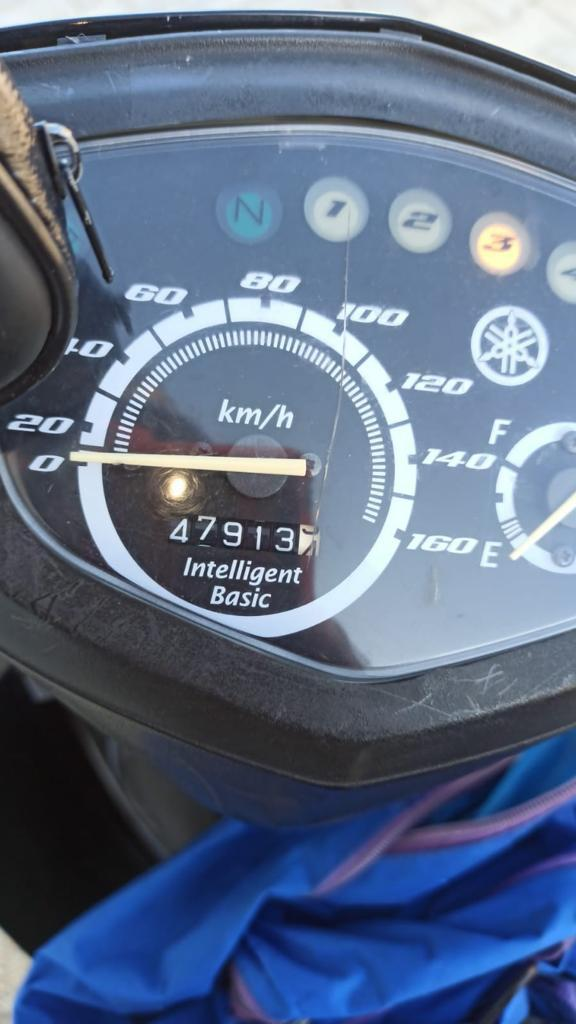1: (254, 525, 262, 550)
3: (273, 526, 294, 552)
4: (167, 517, 189, 544), (300, 539, 316, 562)
7: (196, 514, 216, 540)
9: (221, 521, 242, 547)
odometer: (165, 513, 321, 560)
